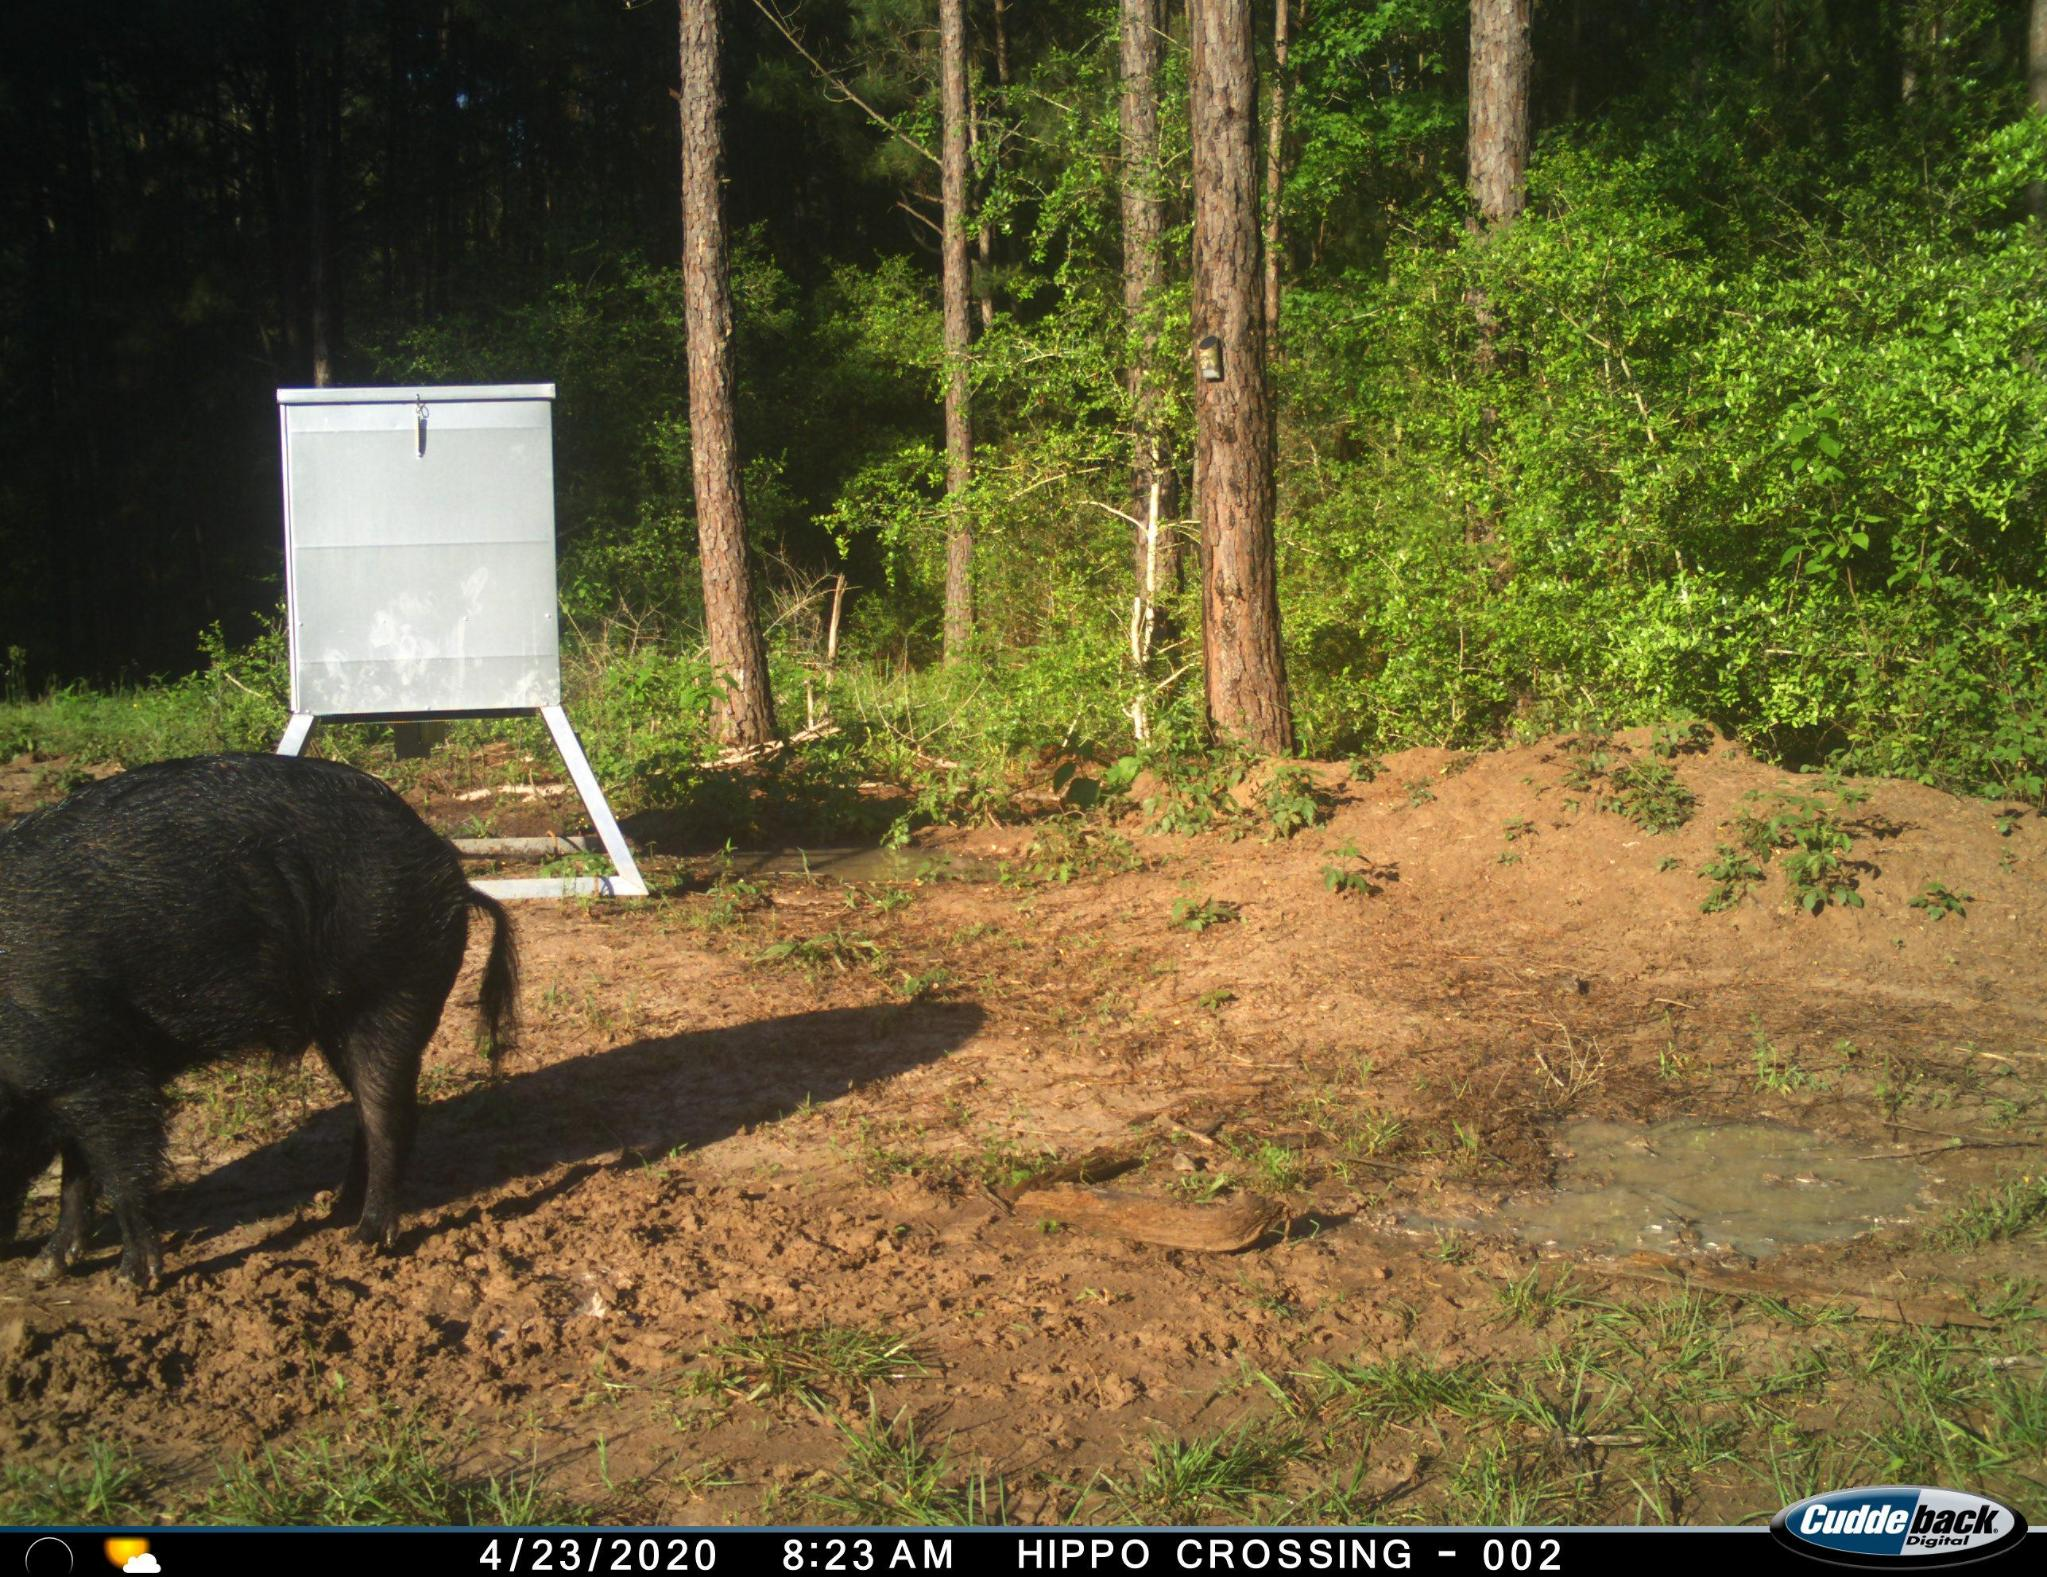Hog: (0, 737, 523, 1290)
